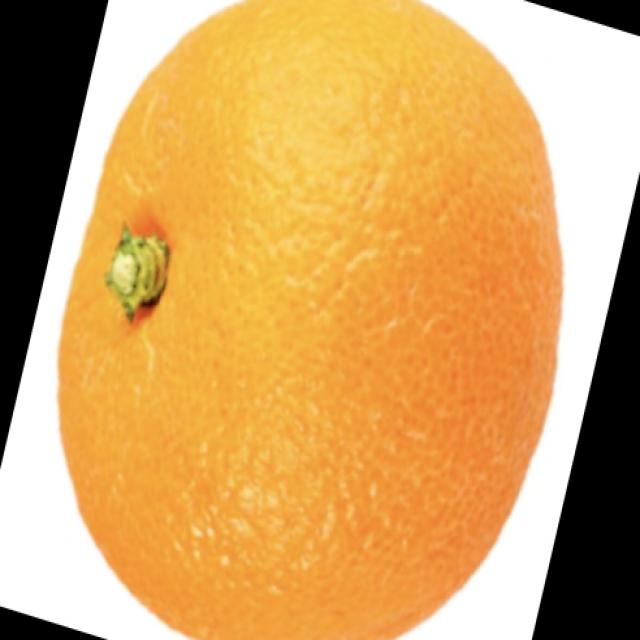fresh: (23, 11, 574, 640)
